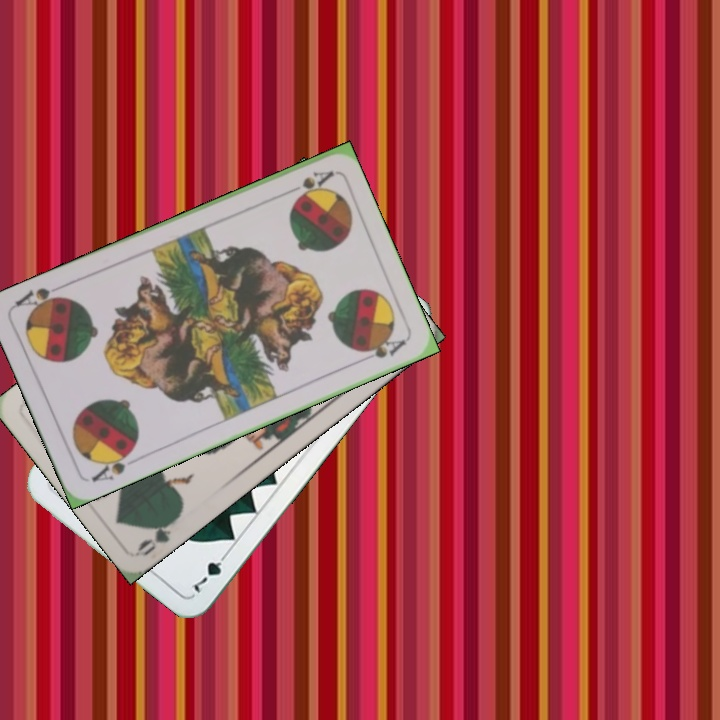G7: (184, 547, 232, 596)
GO: (134, 512, 183, 559)
SA: (87, 444, 142, 485), (279, 166, 336, 202)
